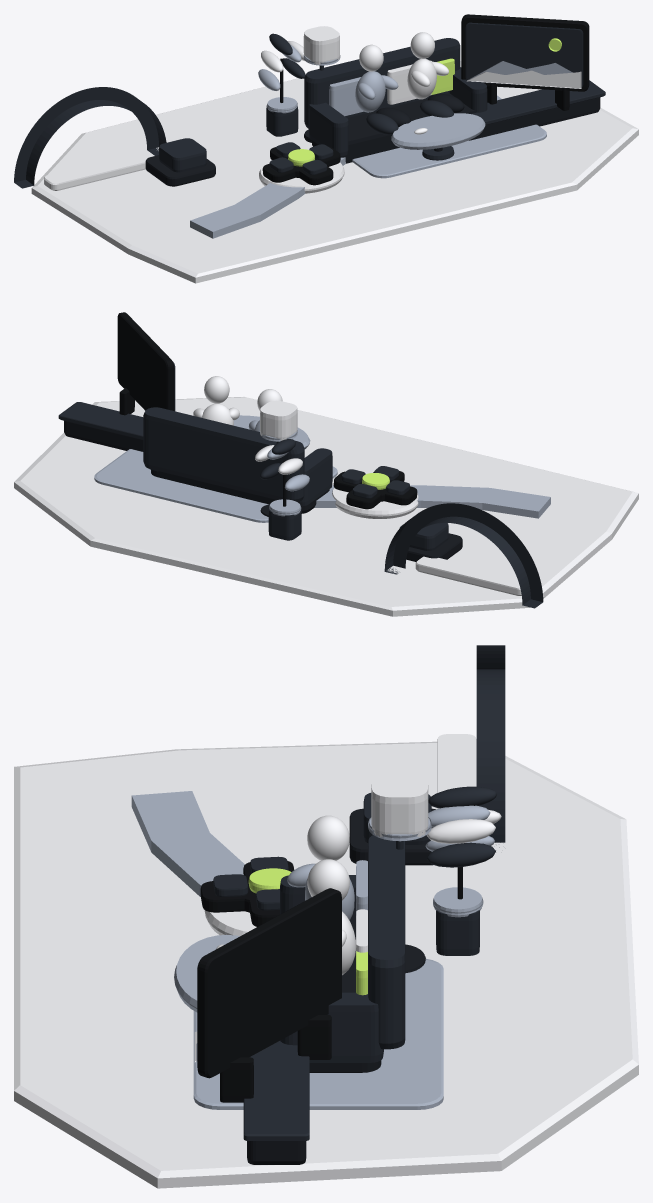
Rendered from footer-desktop.glb.
3 renders of one model, top to bottom at view 1: azimuth 30°, elevation 25°; view 2: azimuth 150°, elevation 25°; view 3: azimuth 270°, elevation 25°, orthographic. The views are drawn at different scales.
Visible parts, largest first — view 1: porcelain-room-ground, unbranded-tv-screen, stepped-room-portal, muted-living-rug, sofa-back, continuous-muted-path, coffee-table-top, unbranded-tv-frame, tv-console-top, sofa-seat, portal-threshold, tv-console (+21 smaller); view 2: porcelain-room-ground, sofa-back, stepped-room-portal, muted-living-rug, unbranded-tv-frame, continuous-muted-path, portal-threshold, tv-console-top, sofa-arm-left, floor-lamp-shade, tv-console, focus-key-step (+8 smaller); view 3: porcelain-room-ground, unbranded-tv-frame, muted-living-rug, sofa-back, continuous-muted-path, tv-console-top, stepped-room-portal, sofa-arm-right, floor-lamp-shade, portal-threshold, plant-pot, coffee-table-top (+16 smaller).
Part boxes in pixels (x1,y1,x2,y2): porcelain-room-ground: (31,61,638,283); unbranded-tv-screen: (465,22,583,88); stepped-room-portal: (14,87,166,188); muted-living-rug: (352,95,546,178); sofa-back: (304,38,460,128); continuous-muted-path: (190,157,345,238); coffee-table-top: (391,113,485,149); unbranded-tv-frame: (461,14,589,91); tv-console-top: (471,80,605,125); sofa-seat: (312,93,476,163); portal-threshold: (44,152,153,190); tv-console: (469,97,600,140); porcelain-room-ground: (14,397,638,616); sofa-back: (143,407,304,502); stepped-room-portal: (384,503,543,608); muted-living-rug: (94,449,337,522); unbranded-tv-frame: (117,312,173,410); continuous-muted-path: (314,485,550,518); portal-threshold: (415,556,521,595); tv-console-top: (58,402,143,439); sofa-arm-left: (298,448,332,506); floor-lamp-shade: (260,400,297,440); tv-console: (64,421,143,451); focus-key-step: (332,486,418,518); porcelain-room-ground: (14,741,638,1188); unbranded-tv-frame: (197,888,341,1078); muted-living-rug: (193,958,443,1109); sofa-back: (368,835,405,1049); continuous-muted-path: (131,791,244,896); tv-console-top: (243,1041,309,1140); stepped-room-portal: (476,645,505,847); sofa-arm-right: (280,992,383,1062); floor-lamp-shade: (371,773,428,837); portal-threshold: (437,734,476,808); plant-pot: (436,910,479,955); coffee-table-top: (174,934,239,1012).
Bounding box in the file's own units: 9.62 × 2 × 5.7.
